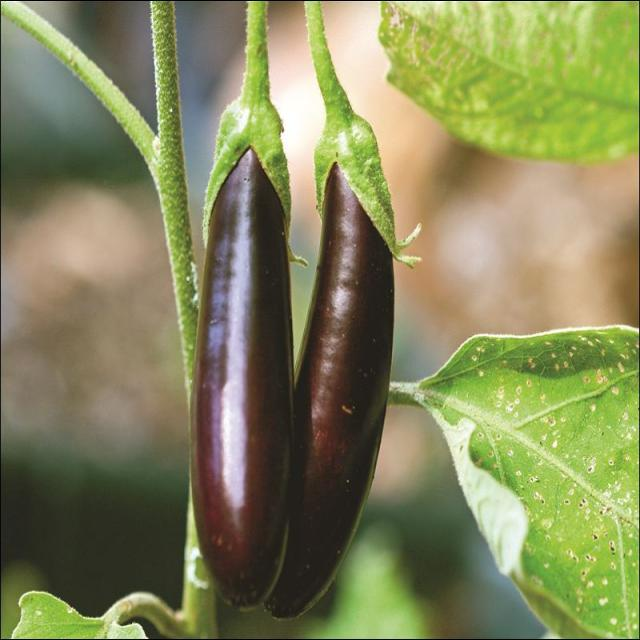Eggplant: (269, 13, 400, 632), (178, 7, 302, 612)
